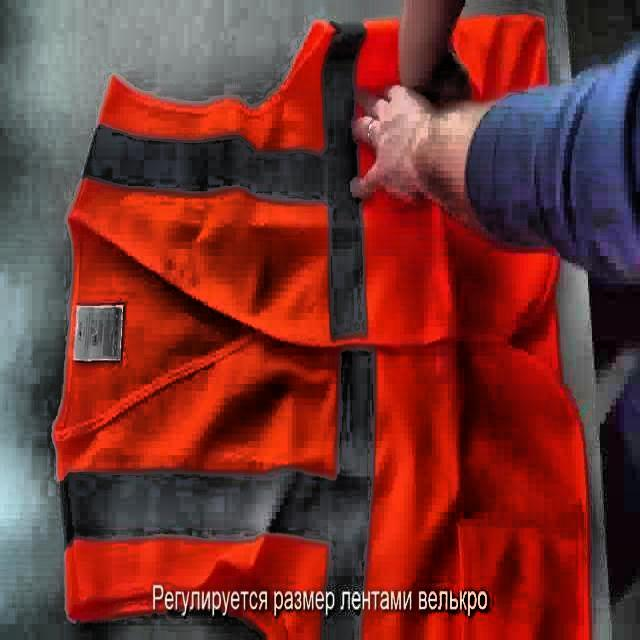safety_jacket: (52, 8, 592, 640)
